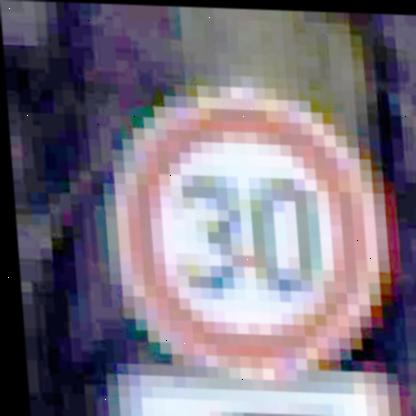Speed Limit -30-: (96, 79, 390, 371)
